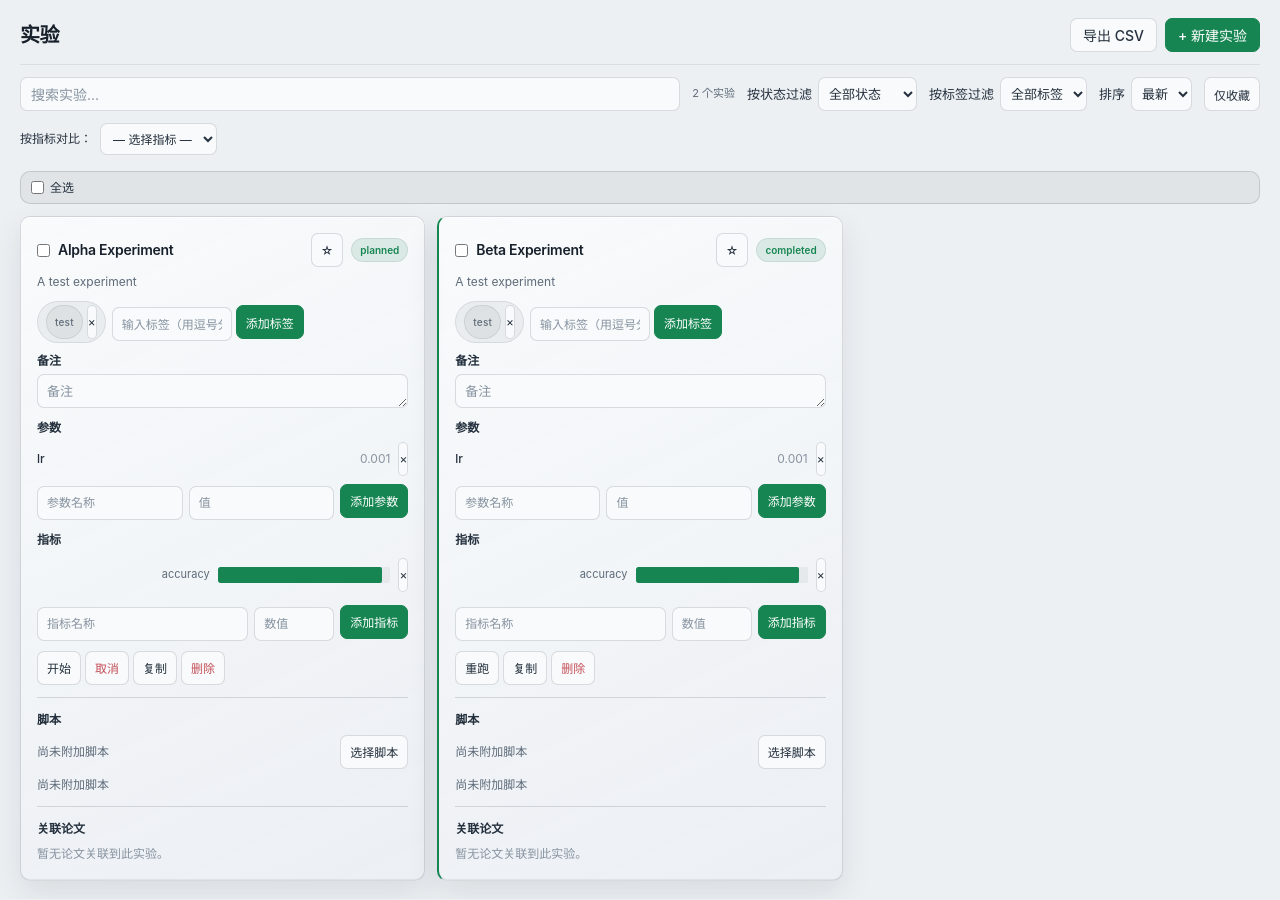
Scenario: ExperimentsPage › should filter experiments by status and query
The image size is (1280, 900).
Check: the heading "Alpha Experiment" is shown, box [58,241,173,258]
Check: the heading "Beta Experiment" is shown, box [476,241,583,258]
Type "Alpha" into the field with placeholder "搜索实验..." at {"x": 350, "y": 94}, box [20,77,680,111]
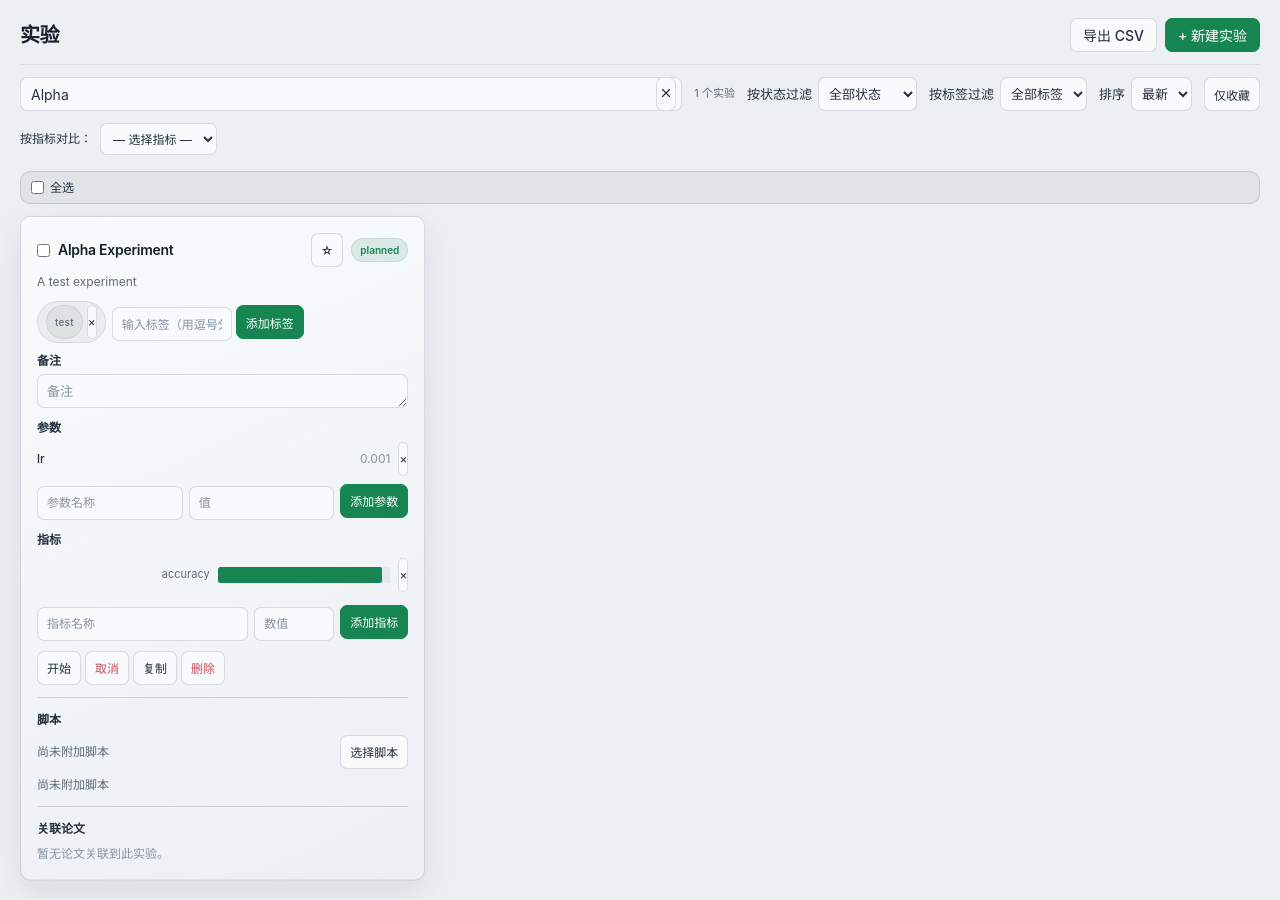
Check: the heading "Beta Experiment" is gone
Clear the field with placeholder "搜索实验..." at {"x": 351, "y": 94}, box [20,77,682,111]
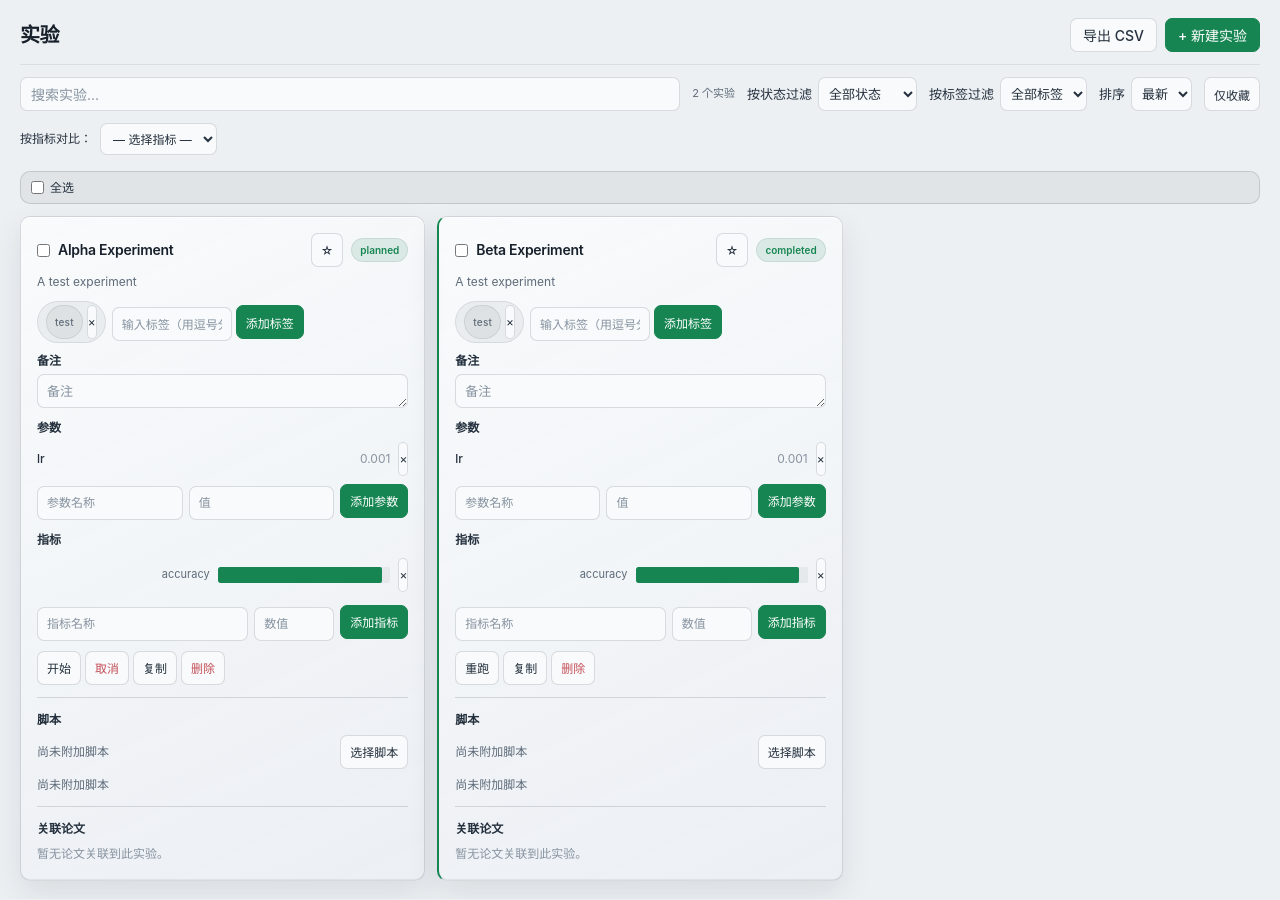
Select "completed" in the dropdown labelled "按状态过滤" at {"x": 868, "y": 94}, box [818,77,917,111]
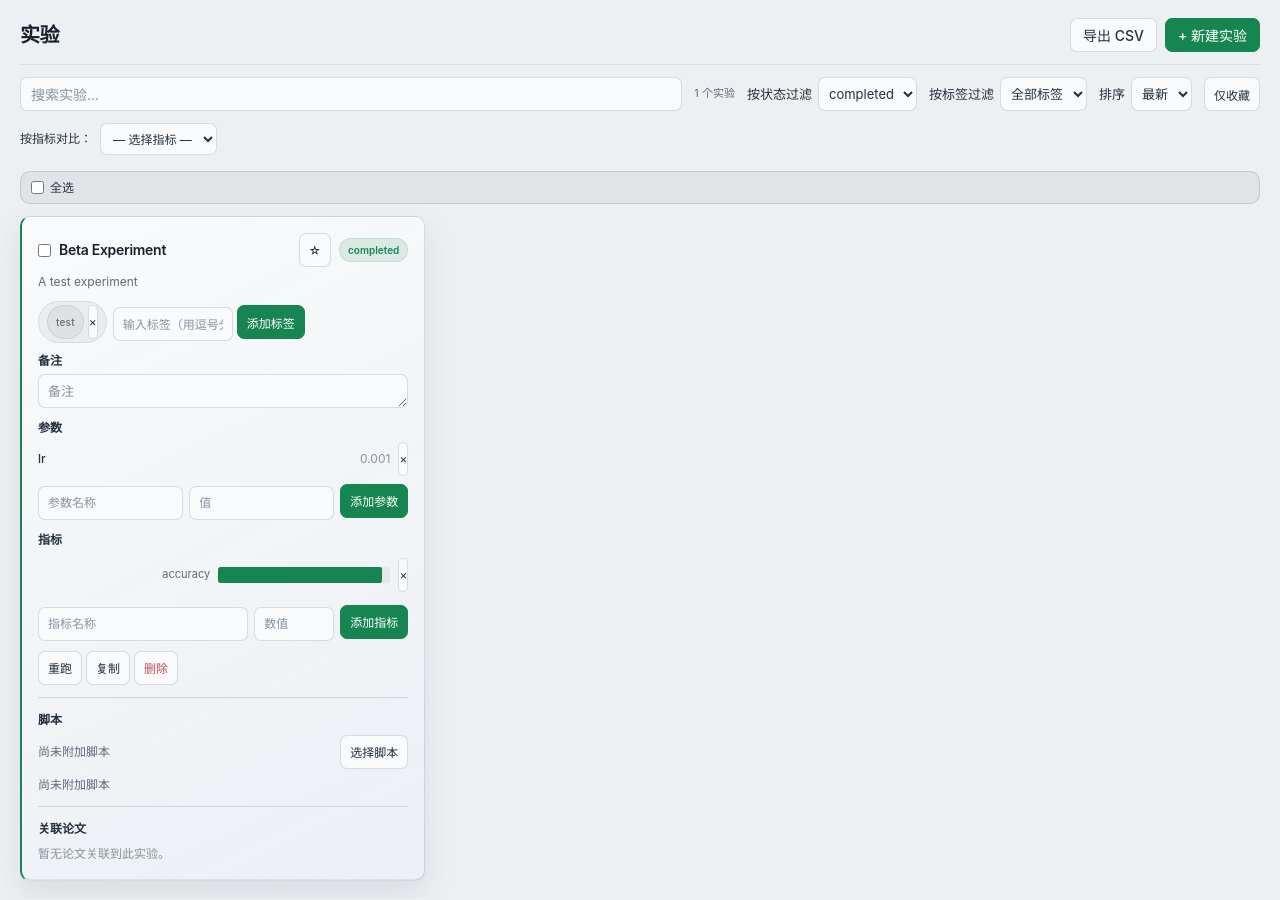
Check: the heading "Beta Experiment" is shown, box [59,241,166,258]
Check: the heading "Alpha Experiment" is gone
Check: the text "1 个实验" is shown, box [694,85,735,103]
